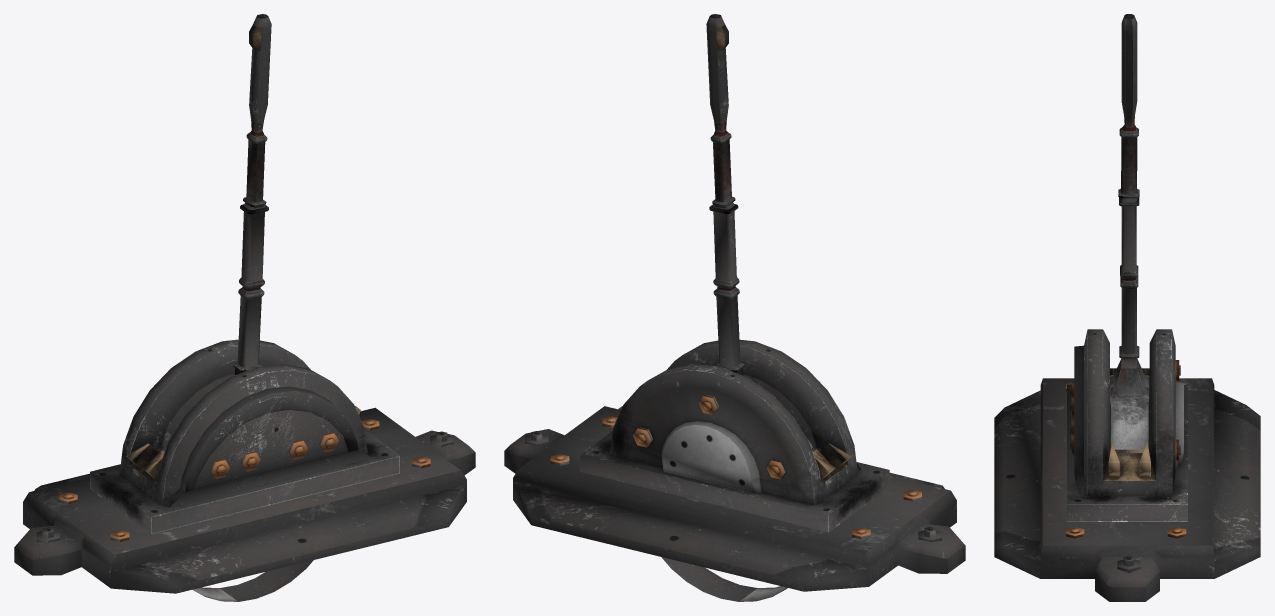
The model's file is Floor Level 03 Animatable.fbx.
The picture shows the model from 3 angles, left to right: view 1: azimuth 30°, elevation 25°; view 2: azimuth 150°, elevation 25°; view 3: azimuth 270°, elevation 25°; orthographic projection.
Visible parts, largest first — view 1: Base, Lever; view 2: Base, Lever; view 3: Base, Lever.
Part boxes in pixels (x1=…): Base: x1=14, y1=339, x2=475, y2=593; Lever: x1=164, y1=14, x2=313, y2=601; Base: x1=504, y1=339, x2=965, y2=591; Lever: x1=661, y1=14, x2=812, y2=601; Base: x1=994, y1=329, x2=1260, y2=601; Lever: x1=1110, y1=14, x2=1149, y2=452.
Size of the model in its own units: 172 by 212 by 90.47.
